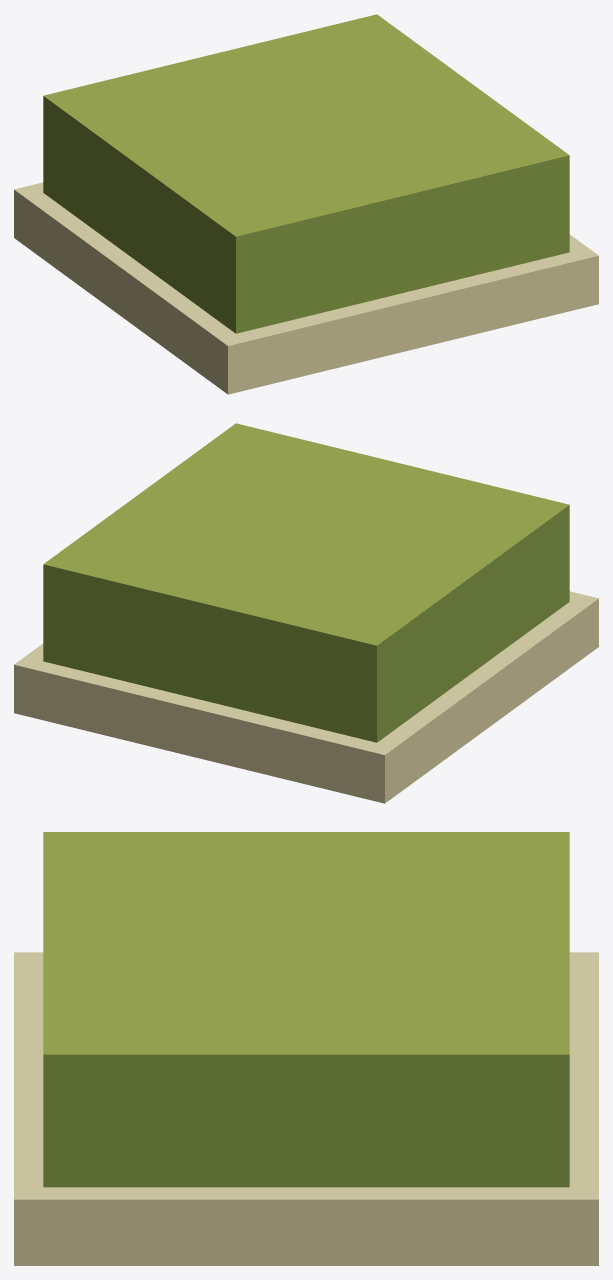
Rendered from hedge-cube.fbx.
3 renders of one model, top to bottom at view 1: azimuth 30°, elevation 25°; view 2: azimuth 150°, elevation 25°; view 3: azimuth 270°, elevation 25°, orthographic. The views are drawn at different scales.
Parts seen in each view (by area): view 1: hedge-cube; view 2: hedge-cube; view 3: hedge-cube.
Part boxes in pixels (<box>): hedge-cube: <box>14,14,598,394</box>; hedge-cube: <box>14,423,598,803</box>; hedge-cube: <box>14,832,598,1265</box>.
Bounding box in the file's own units: 200 × 75 × 200.
